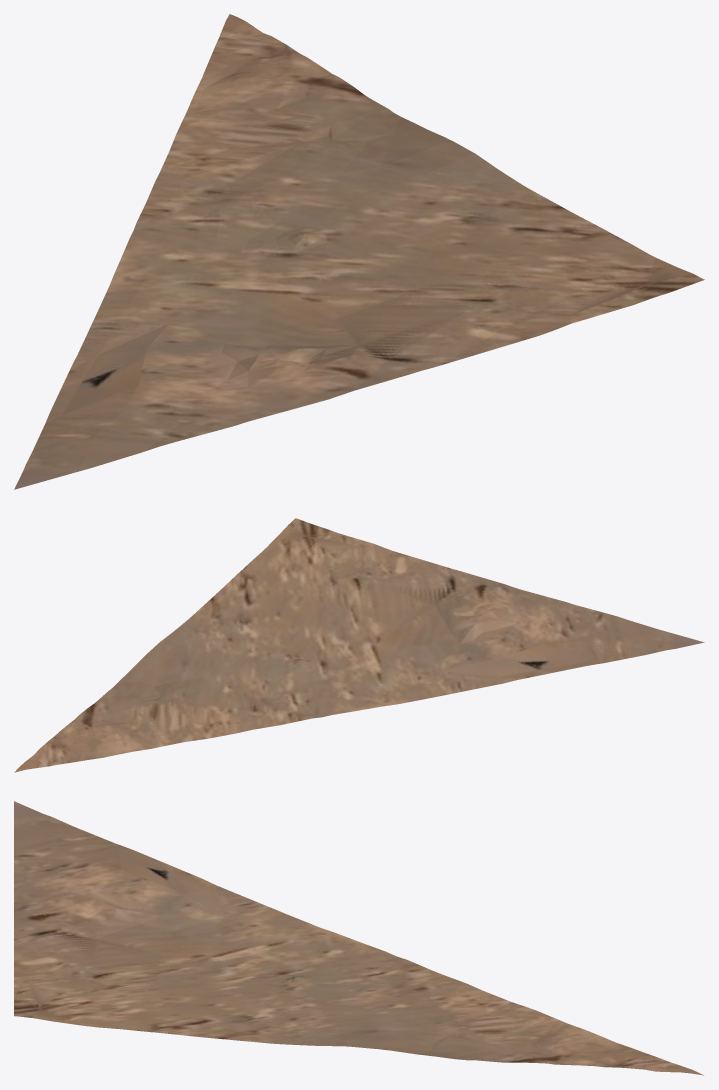
3 views of the same model, one above another, from view 1: azimuth 30°, elevation 25°; view 2: azimuth 150°, elevation 25°; view 3: azimuth 270°, elevation 25° (orthographic). The views are drawn at different scales.
Bounding box in the file's own units: 8.44 × 0.9598 × 10.06.
Materials: 1 (1 with a texture image).
